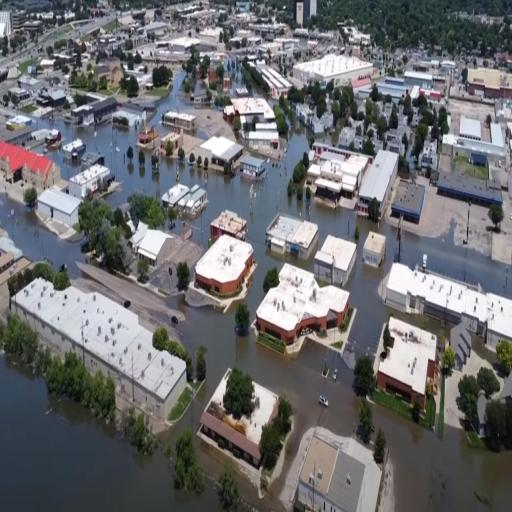flood: (167, 294, 360, 512), (0, 353, 219, 508), (192, 134, 306, 317), (374, 404, 512, 512), (197, 364, 296, 499), (0, 192, 82, 276), (402, 232, 507, 292), (349, 219, 386, 354), (114, 130, 176, 200), (54, 113, 112, 161), (117, 91, 176, 135), (311, 200, 357, 242), (368, 221, 399, 277), (382, 306, 440, 335), (466, 330, 503, 374), (116, 120, 142, 179), (46, 148, 81, 181), (162, 408, 191, 446), (124, 134, 152, 168), (113, 125, 136, 146), (171, 70, 186, 99), (506, 266, 512, 300), (444, 323, 454, 341), (214, 121, 228, 133), (37, 121, 52, 127)
house: (11, 272, 188, 427), (387, 246, 512, 358), (196, 362, 294, 491), (255, 259, 352, 357), (372, 314, 443, 431), (291, 428, 367, 512), (195, 234, 256, 310), (293, 43, 381, 95), (308, 143, 366, 217), (224, 88, 283, 158), (359, 145, 400, 227), (130, 210, 179, 278), (0, 137, 61, 191), (437, 168, 506, 211), (165, 175, 209, 224), (402, 54, 455, 94), (466, 60, 512, 105), (68, 162, 115, 202), (466, 62, 512, 102), (67, 103, 116, 140), (392, 172, 424, 228), (38, 186, 81, 226), (212, 207, 248, 239), (162, 108, 199, 138), (362, 228, 387, 271), (240, 152, 269, 189), (0, 6, 20, 46), (458, 113, 485, 142)
